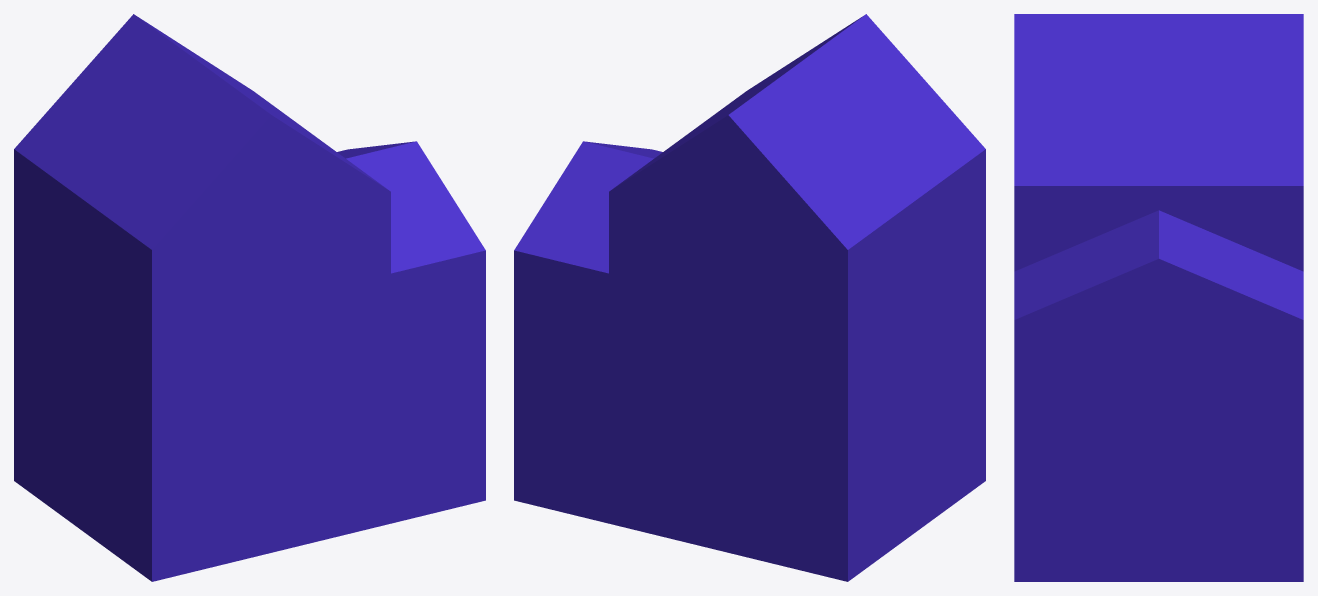
File: Houses.003.fbx
3 views of the same model, side by side, from view 1: azimuth 30°, elevation 25°; view 2: azimuth 150°, elevation 25°; view 3: azimuth 270°, elevation 25° (orthographic). The views are drawn at different scales.
Visible parts, largest first — view 1: Houses_003; view 2: Houses_003; view 3: Houses_003.
Boxes of the visible parts, x1,y1,x2,y2 form: Houses_003: [14, 14, 485, 581]; Houses_003: [514, 14, 985, 581]; Houses_003: [1014, 14, 1303, 581].
Size of the model in its own units: 857 by 1074 by 614.
